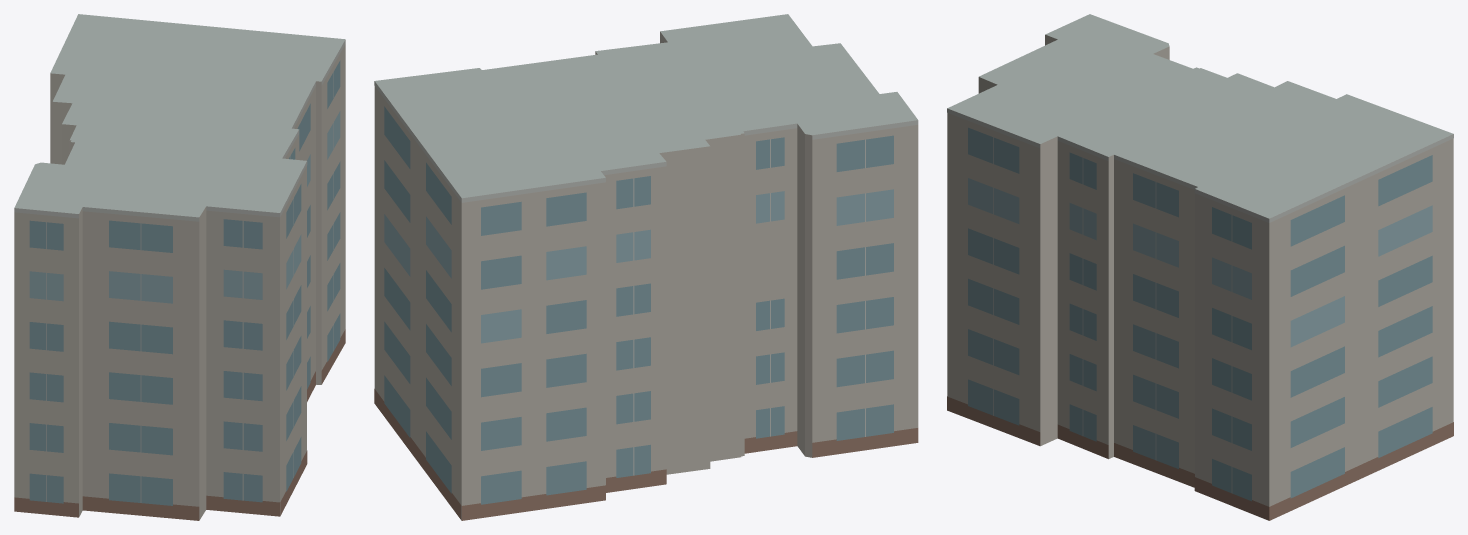
File: survey-upis-32526357.glb
3 views of the same model, side by side, from view 1: azimuth 30°, elevation 25°; view 2: azimuth 150°, elevation 25°; view 3: azimuth 270°, elevation 25° (orthographic). The views are drawn at different scales.
Visible parts, largest first — view 1: survey-upis-32526357.tmp; view 2: survey-upis-32526357.tmp; view 3: survey-upis-32526357.tmp.
Part boxes in pixels (<box>): survey-upis-32526357.tmp: <box>14,14,345,520</box>; survey-upis-32526357.tmp: <box>374,14,918,520</box>; survey-upis-32526357.tmp: <box>947,14,1453,520</box>.
Bounding box in the file's own units: 24.94 × 17.15 × 26.07.
